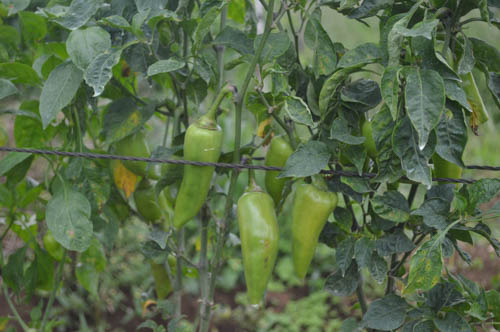ChiliPepper: (288, 178, 338, 287), (174, 128, 222, 229), (236, 190, 278, 305), (262, 135, 292, 198), (116, 139, 161, 174), (132, 186, 164, 220)
